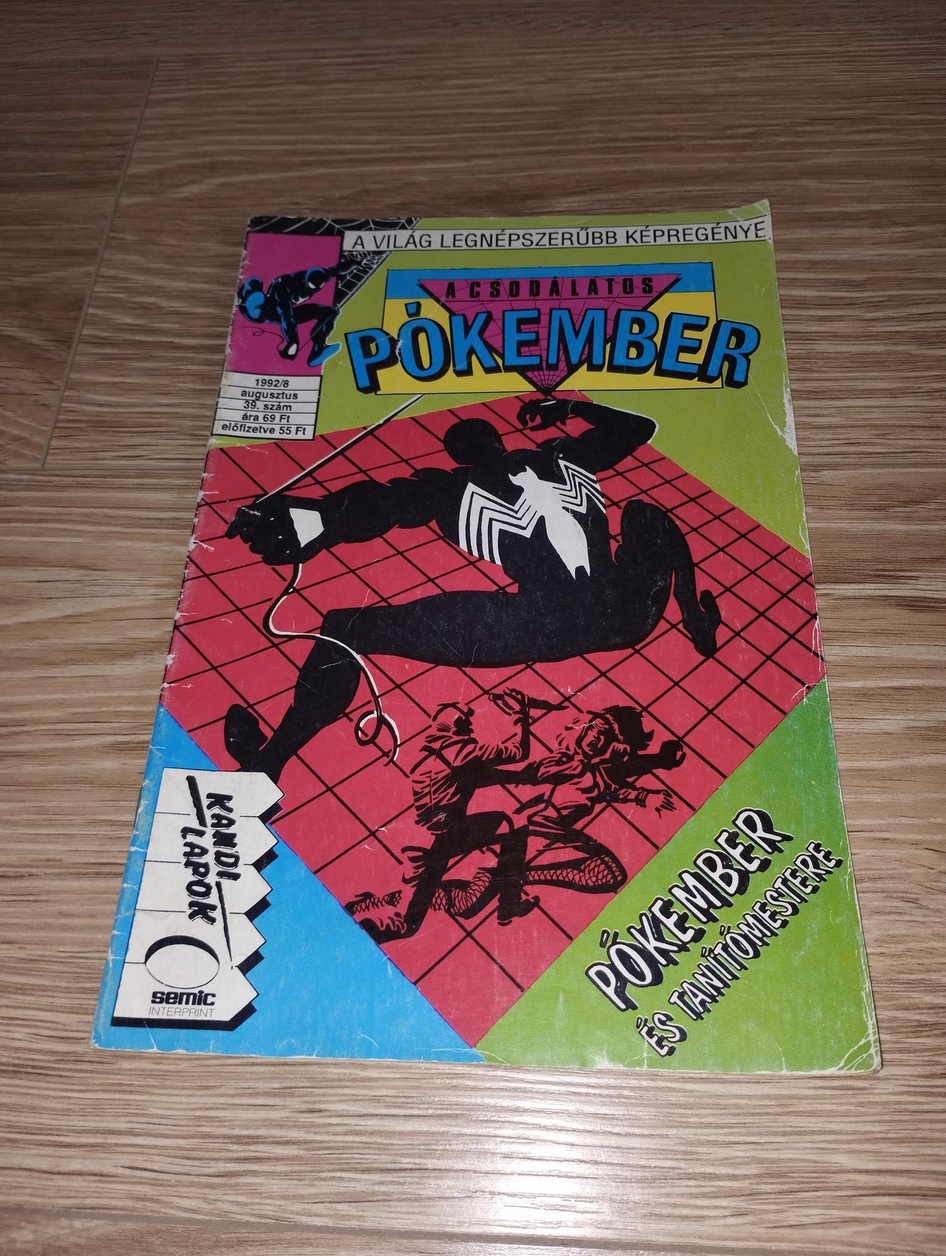comic: (93, 193, 892, 1073)
